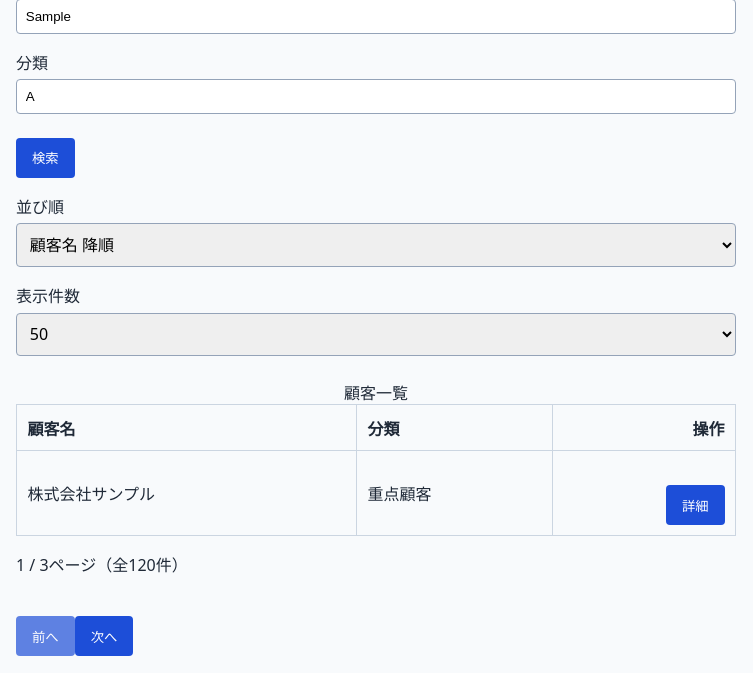
Test: CustomerList › moves forward and back while preserving applied conditions
The image size is (753, 673).
(page scrolled)
Expected: the text named "現在のページ" shows "1 / 3ページ", [16,554,188,576]
Expected: the button "前へ" is disabled, [16,616,75,656]
Click the button "次へ": (104, 636) [75,616,133,656]
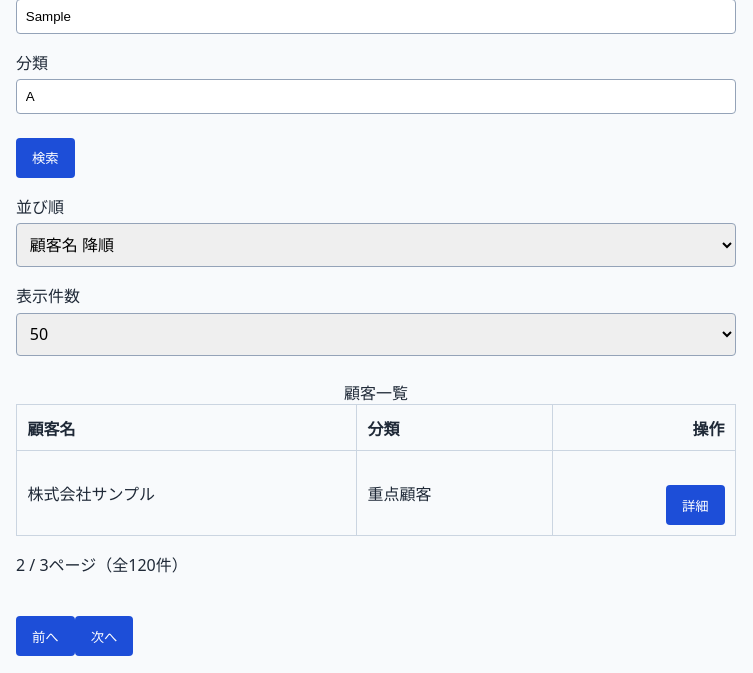
Expected: the text named "現在のページ" shows "2 / 3ページ", [16,554,188,576]
Expected: the button "前へ" is enabled
Click the button "前へ": (45, 636) [16,616,75,656]
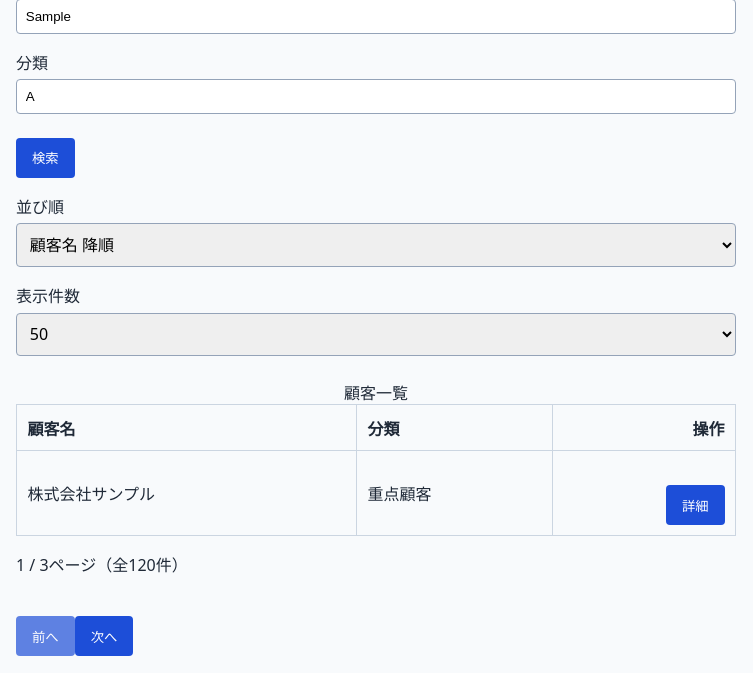
Expected: the text named "現在のページ" shows "1 / 3ページ", [16,554,188,576]
